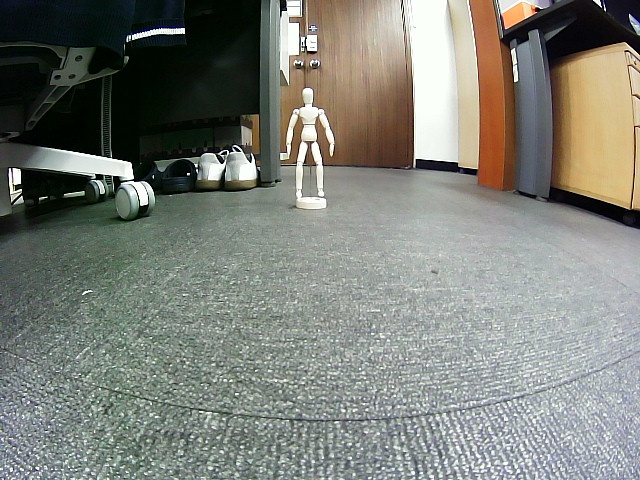person: (285, 88, 334, 199)
